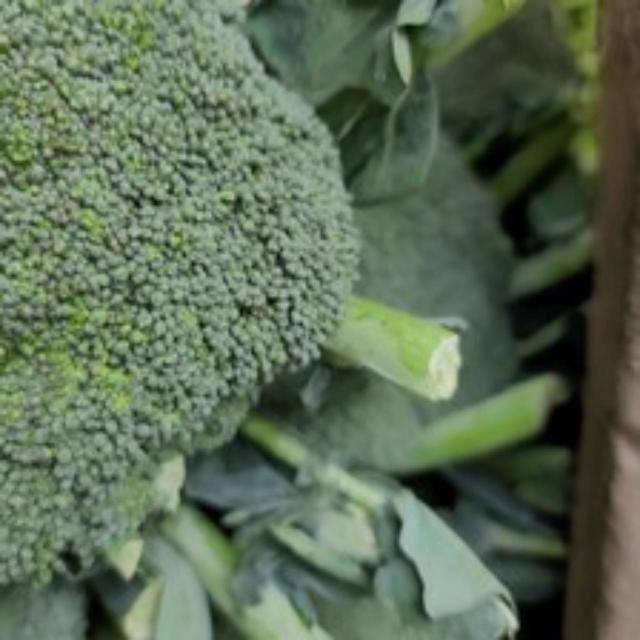broccoli: (0, 0, 366, 638)
